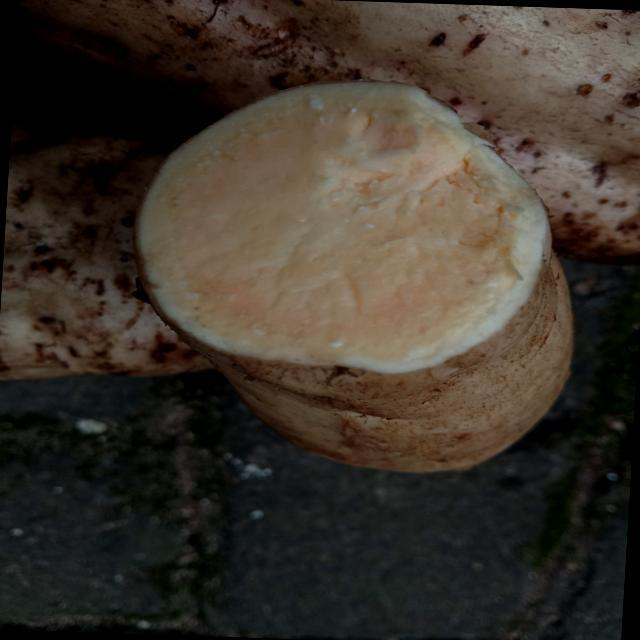Healthy Sweet Potato: (135, 81, 550, 372)
